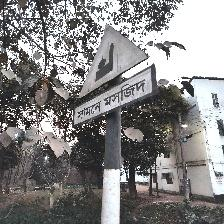Mosque in front: (72, 24, 157, 128)
